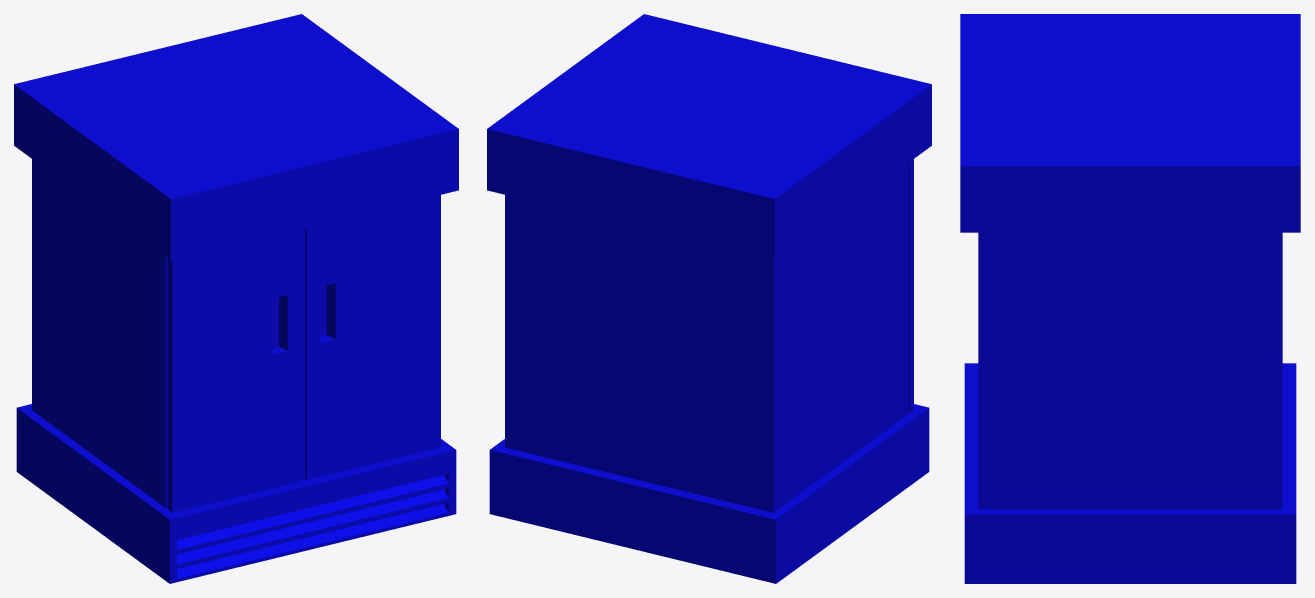
The model's file is ZG_Proxy_Freezer.fbx.
The picture shows the model from 3 angles, left to right: view 1: azimuth 30°, elevation 25°; view 2: azimuth 150°, elevation 25°; view 3: azimuth 270°, elevation 25°; orthographic projection. The views are drawn at different scales.
Parts seen in each view (by area): view 1: pCube126; view 2: pCube126; view 3: pCube126.
Boxes of the visible parts, x1,y1,x2,y2 form: pCube126: (14, 14, 458, 583); pCube126: (487, 14, 931, 583); pCube126: (960, 14, 1300, 583).
Bounding box in the file's own units: 4171 × 5350 × 3941.
